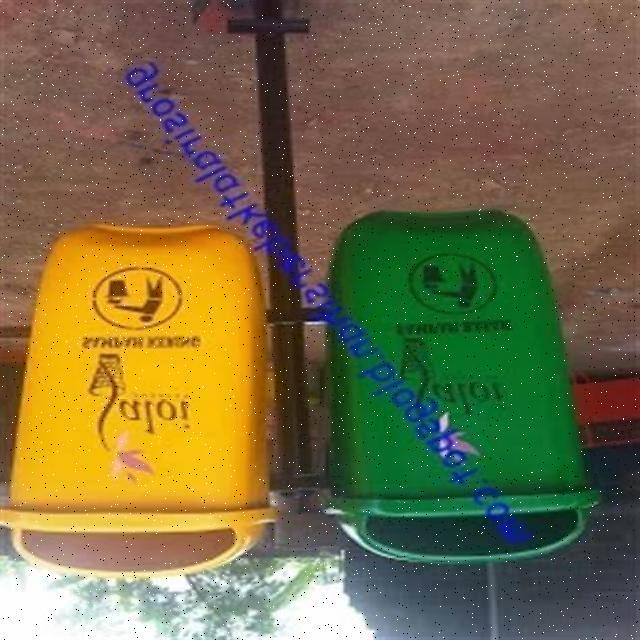garbage container: (304, 208, 640, 582), (1, 212, 299, 581)
